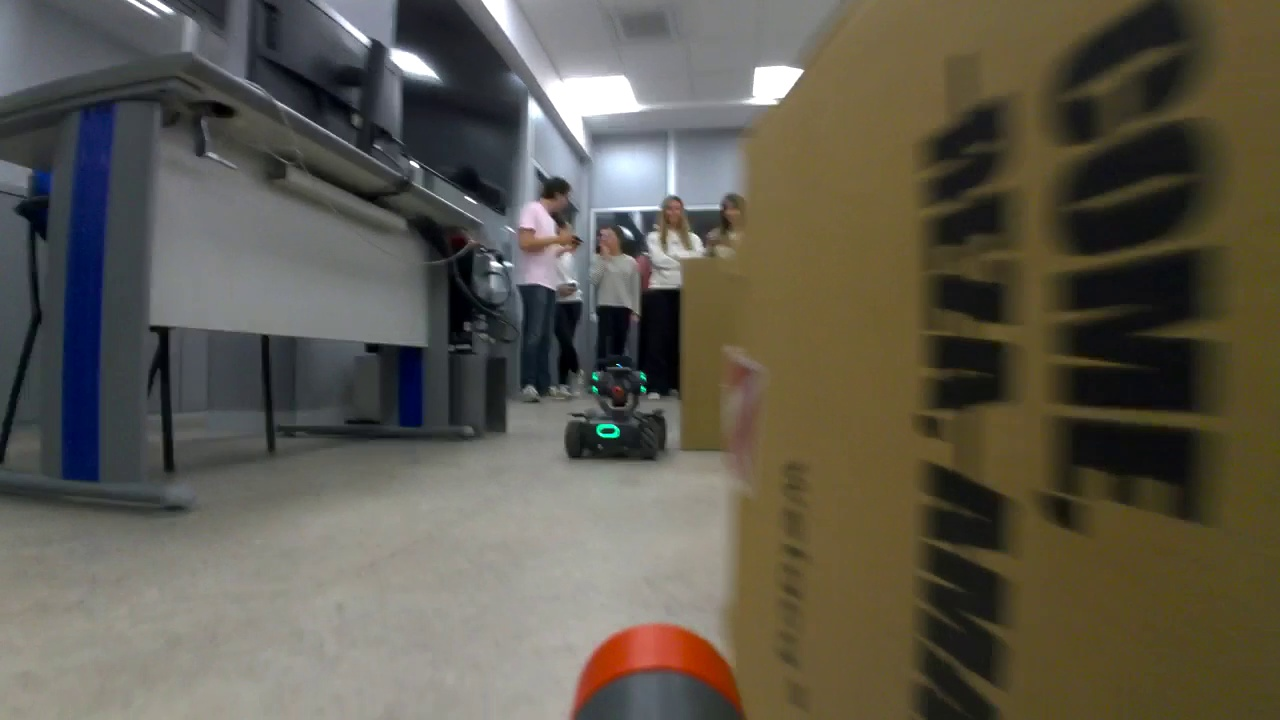robot: (565, 354, 669, 460)
